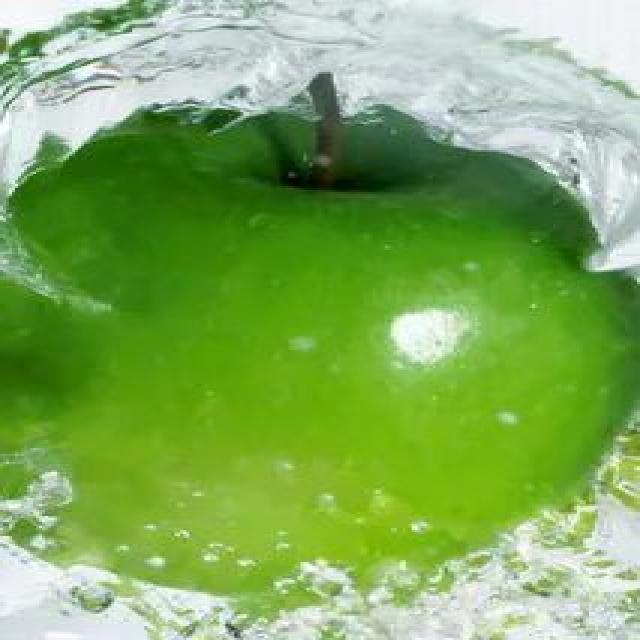Fresh Apple: (21, 150, 542, 587)
